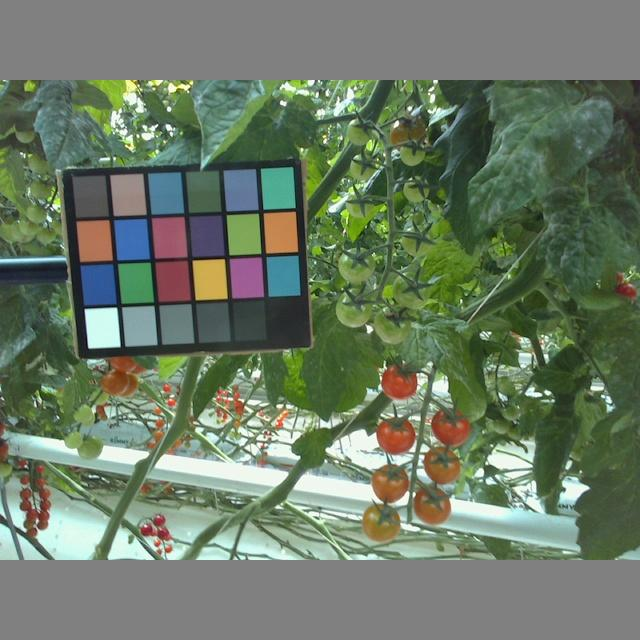green: (373, 302, 412, 346), (335, 285, 373, 328), (337, 246, 377, 283), (390, 272, 429, 309), (401, 225, 435, 255), (400, 174, 431, 202), (345, 192, 373, 220), (346, 116, 373, 145), (397, 140, 426, 167), (346, 154, 376, 180), (77, 432, 104, 459), (71, 402, 94, 423)
pink: (360, 503, 401, 543), (390, 113, 427, 154), (414, 484, 451, 525), (371, 465, 408, 502), (423, 447, 459, 484), (99, 367, 132, 396)
red: (376, 416, 415, 457), (430, 406, 469, 445), (382, 362, 418, 399)
